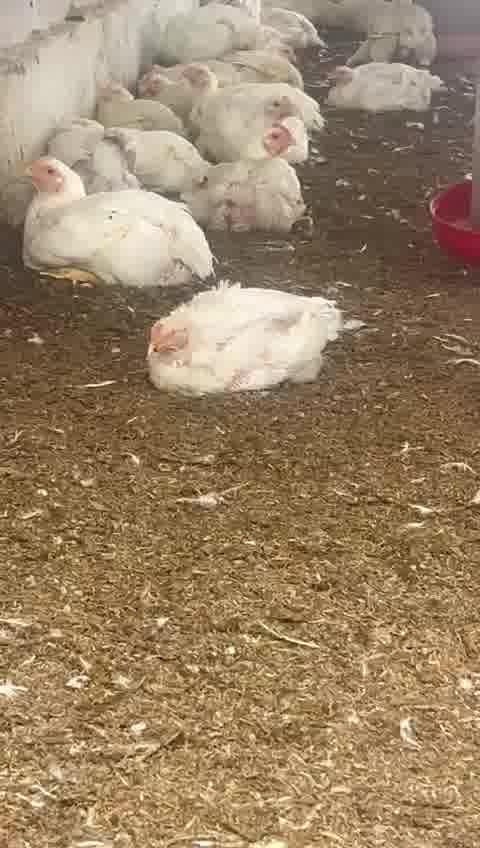AbNormal: (150, 289, 347, 388), (186, 120, 304, 234), (180, 62, 323, 145), (324, 62, 445, 114), (139, 70, 232, 126)
Normal: (17, 157, 217, 289)
